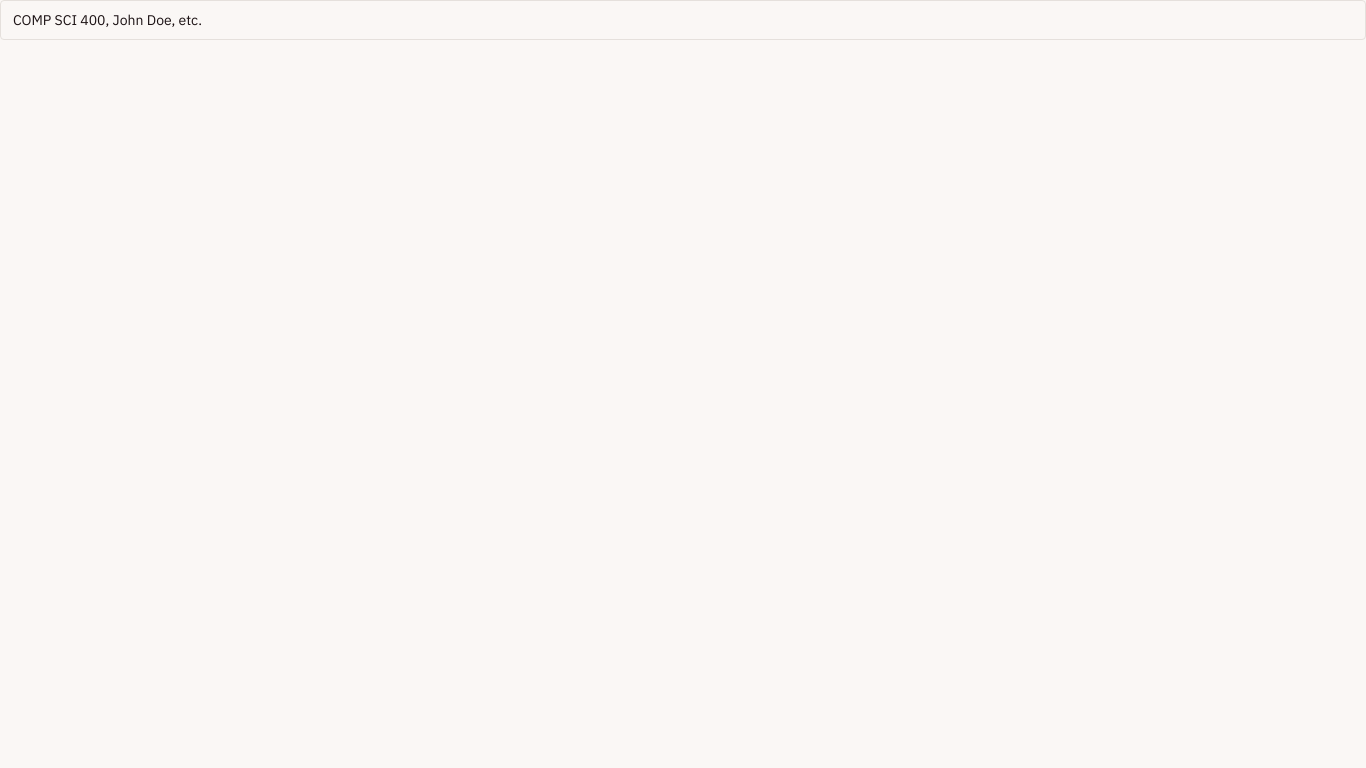
Scenario: SearchAutocomplete › shows an empty state when nothing matches
In the dropdown: (683, 20) 0,0 -> 1365,40, type "zzzz"
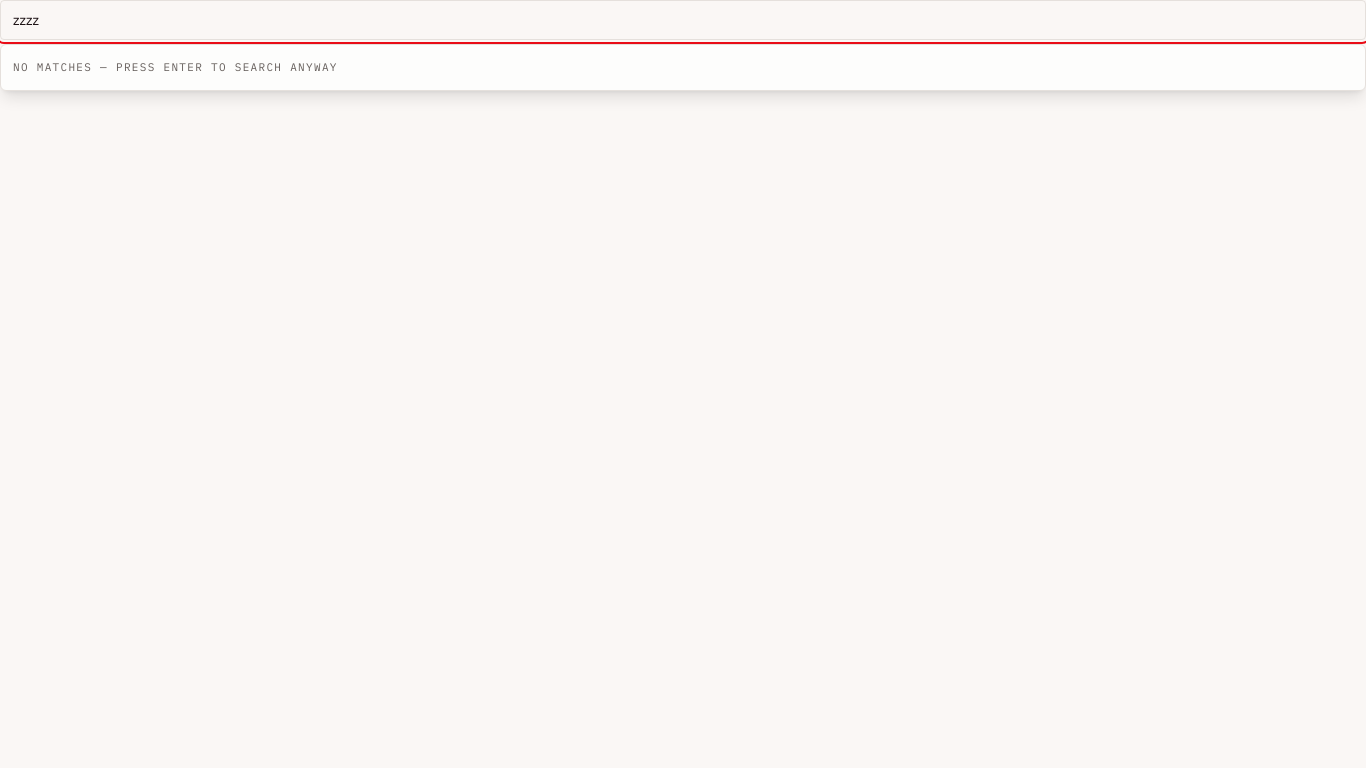
Expected: the text "No matches — press Enter to search anyway" is shown, 13,60 -> 338,74
